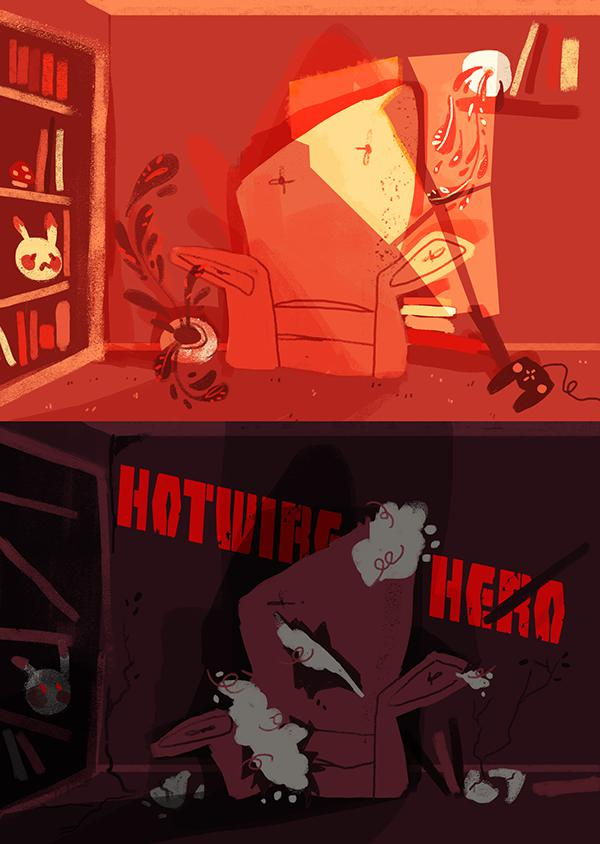cat: (11, 635, 80, 723), (12, 205, 72, 284)
